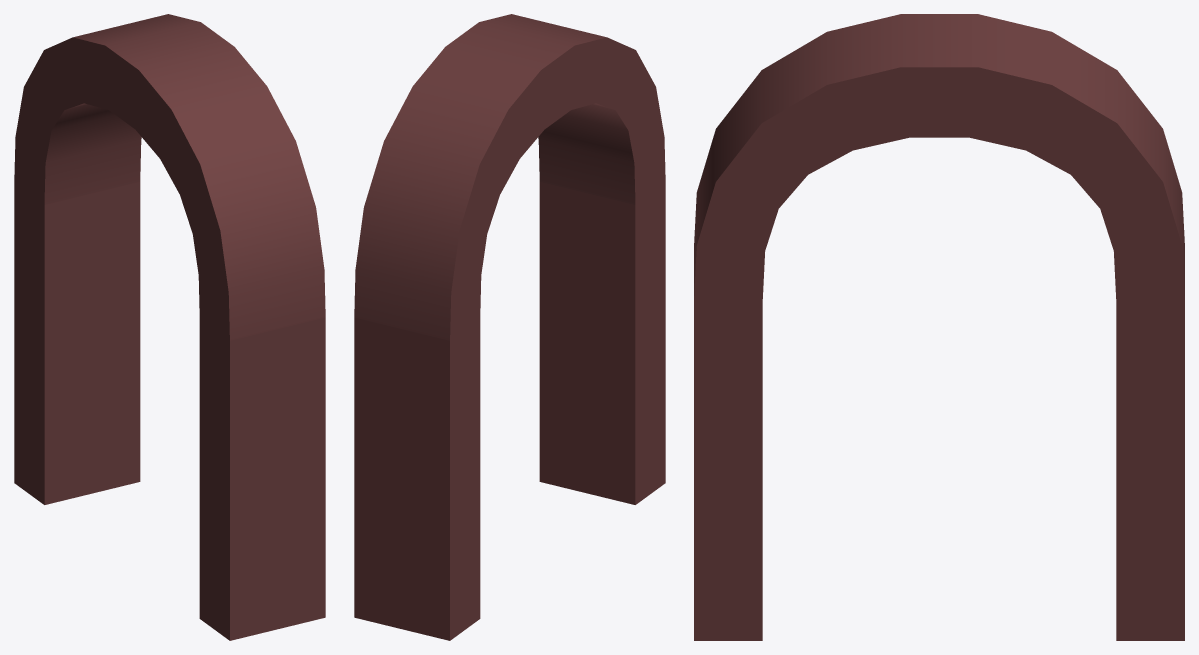
The model's file is Arch2.fbx.
The picture shows the model from 3 angles, left to right: view 1: azimuth 30°, elevation 25°; view 2: azimuth 150°, elevation 25°; view 3: azimuth 270°, elevation 25°; orthographic projection. The views are drawn at different scales.
Visible parts, largest first — view 1: polySurface1; view 2: polySurface1; view 3: polySurface1.
Boxes of the visible parts, x1,y1,x2,y2 form: polySurface1: [14, 14, 325, 640]; polySurface1: [354, 14, 665, 640]; polySurface1: [694, 14, 1184, 640].
Size of the model in its own units: 3.31 by 16.68 by 12.94.
